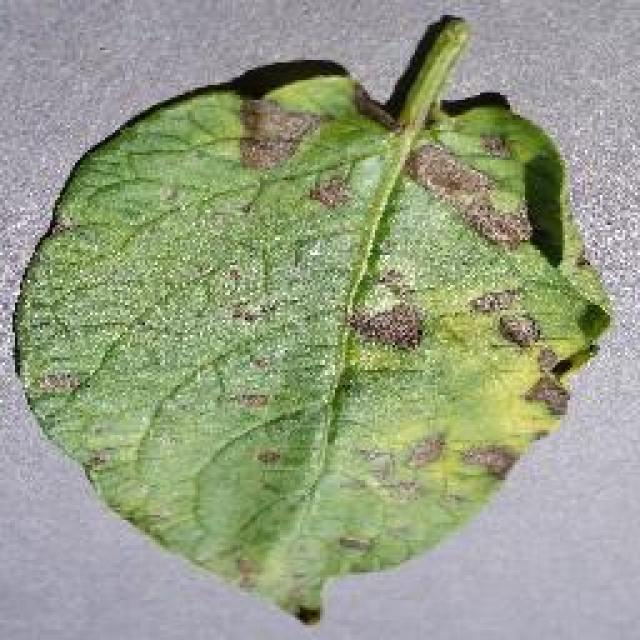Potato___Early_blight: (13, 14, 620, 633)
